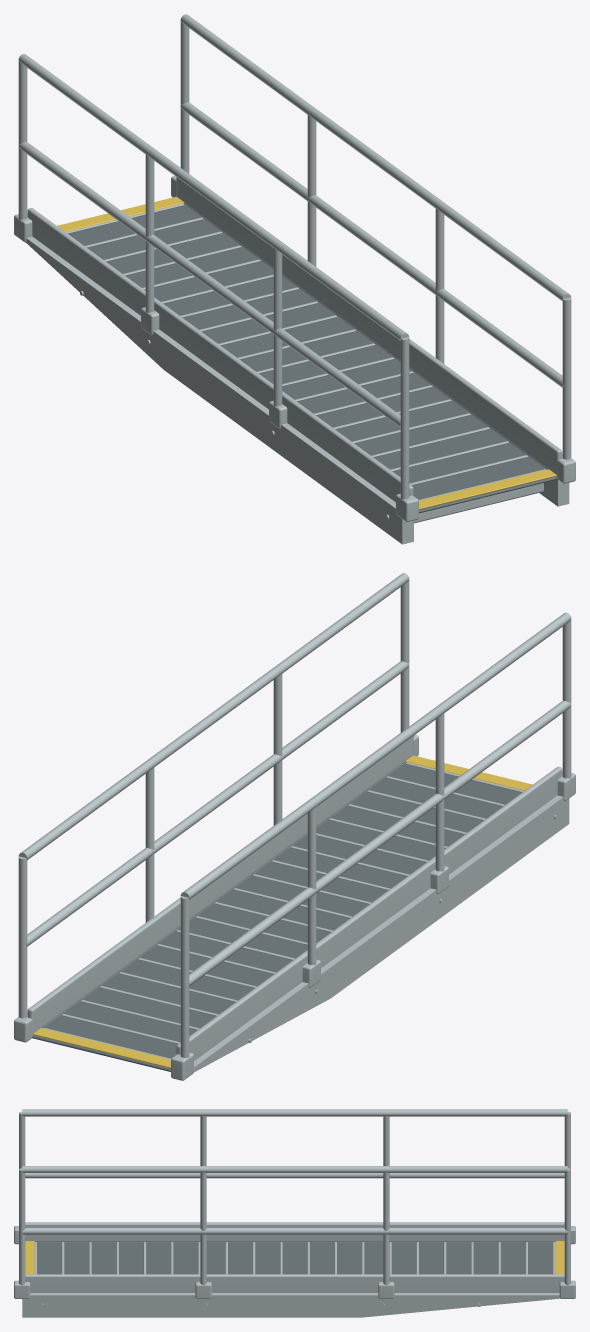
Rendered from boarding_gangway_4m.glb.
The picture shows the model from 3 angles, top to bottom: view 1: azimuth 30°, elevation 25°; view 2: azimuth 150°, elevation 25°; view 3: azimuth 270°, elevation 25°; orthographic projection. The views are drawn at different scales.
Parts seen in each view (by area): view 1: Fixed_Galvanized, Fixed_Nonslip, Fixed_StepEdge; view 2: Fixed_Galvanized, Fixed_Nonslip, Fixed_StepEdge; view 3: Fixed_Galvanized, Fixed_Nonslip, Fixed_StepEdge.
Part boxes in pixels (box(x1,y1,x2,y2)): Fixed_Galvanized: box(14, 14, 575, 544); Fixed_Nonslip: box(68, 203, 557, 513); Fixed_StepEdge: box(57, 196, 556, 509); Fixed_Galvanized: box(14, 573, 575, 1080); Fixed_Nonslip: box(32, 762, 521, 1071); Fixed_StepEdge: box(33, 755, 532, 1068); Fixed_Galvanized: box(14, 1109, 575, 1317); Fixed_Nonslip: box(37, 1242, 552, 1274); Fixed_StepEdge: box(25, 1241, 564, 1274).
Size of the model in its own units: 1.03 by 1.22 by 4.12.
